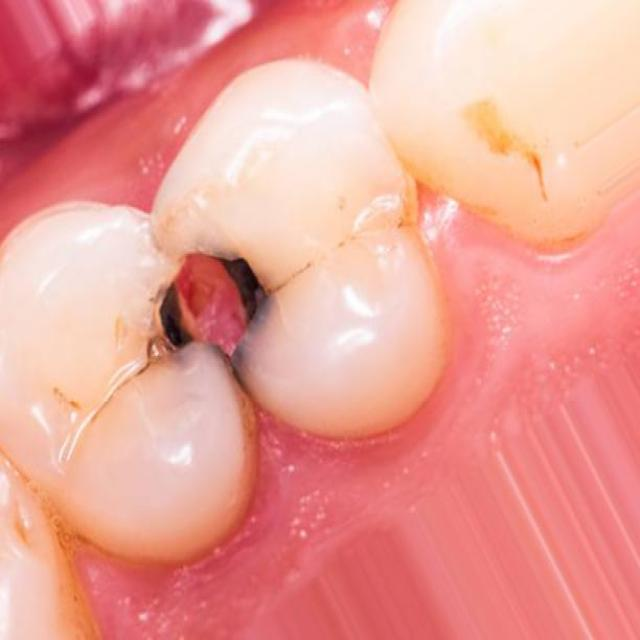caries: (114, 217, 303, 415), (456, 79, 556, 202), (381, 152, 459, 250)
